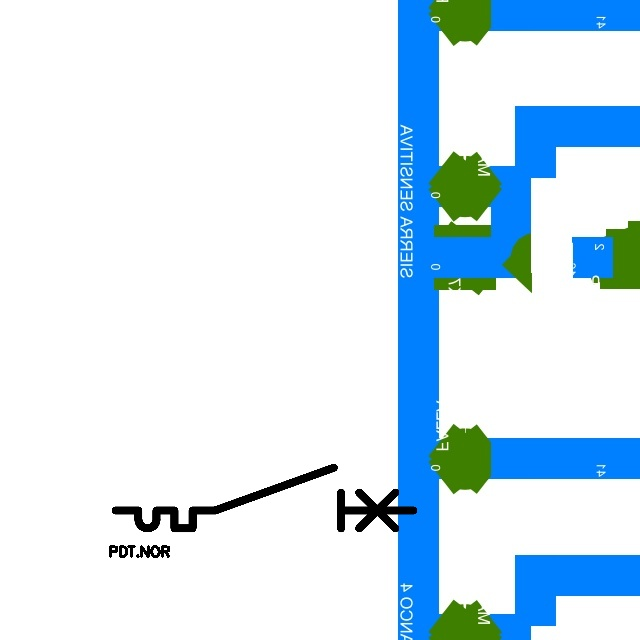interruptor_termomagnetico: (108, 460, 421, 536)
